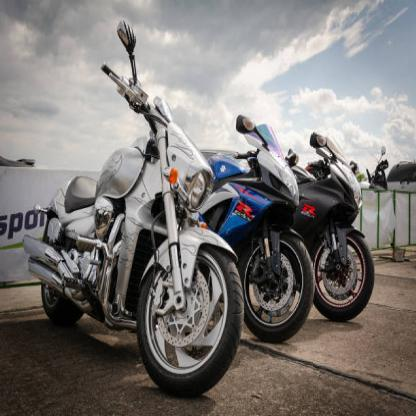Motorcycle: (21, 19, 244, 396), (208, 101, 318, 340), (294, 121, 380, 322)
